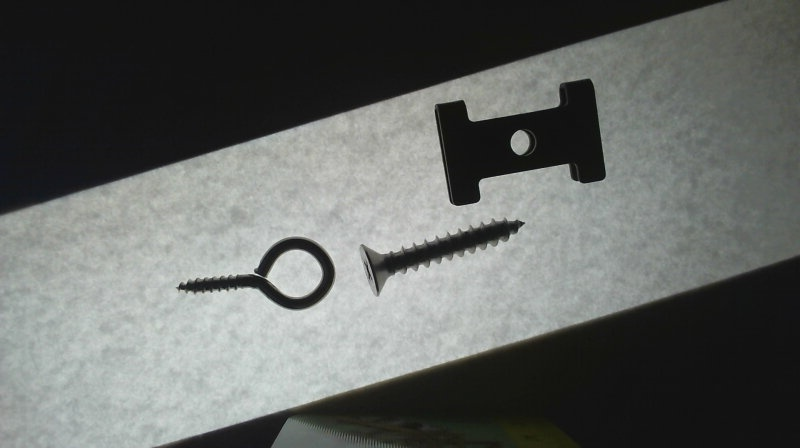O001: (171, 232, 338, 311)
O002: (433, 75, 608, 208)
S001: (356, 214, 528, 297)
